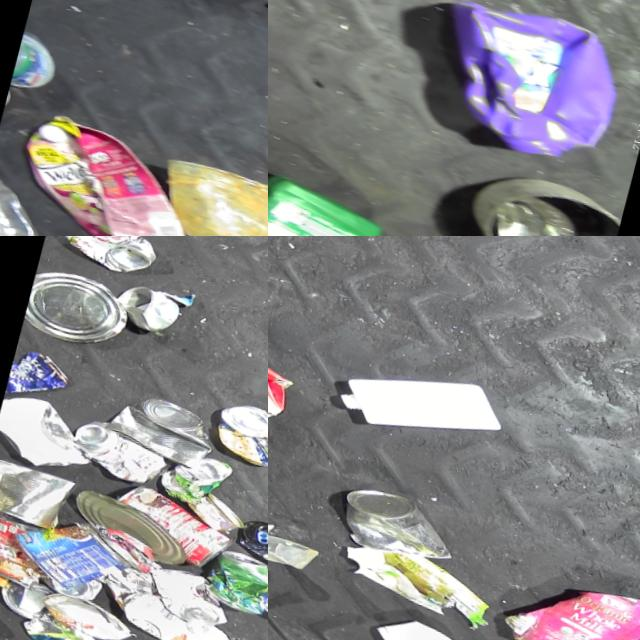can: (5, 497, 141, 603), (107, 473, 241, 571), (338, 473, 466, 570), (22, 257, 138, 357), (102, 379, 222, 470), (69, 483, 196, 564), (68, 410, 173, 488), (144, 554, 240, 628), (0, 453, 78, 533), (38, 582, 139, 640), (159, 438, 236, 508), (5, 343, 77, 413), (204, 538, 268, 612), (55, 236, 162, 279), (211, 389, 268, 468), (111, 274, 184, 335), (0, 506, 50, 589), (185, 481, 251, 533), (0, 569, 57, 623), (236, 502, 268, 590), (41, 561, 107, 603)
milk_jug: (334, 337, 513, 458)
non_white_jug: (419, 0, 633, 167), (268, 152, 392, 236), (268, 329, 306, 456)
